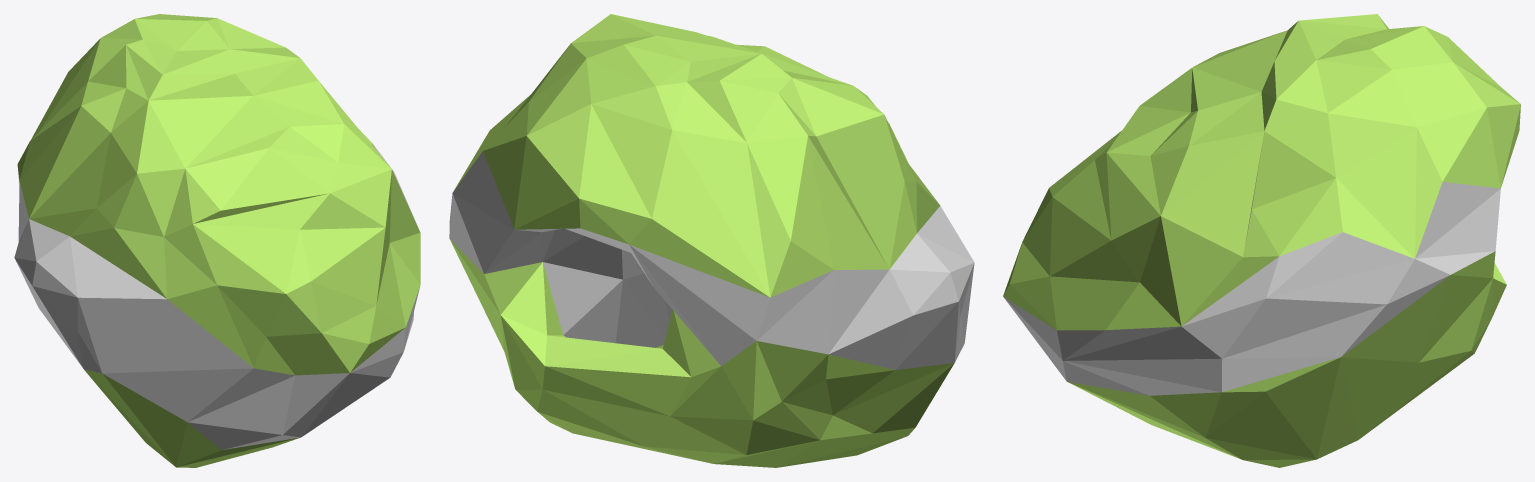
Rendered from fox_den.fbx.
3 renders of one model, left to right at view 1: azimuth 30°, elevation 25°; view 2: azimuth 150°, elevation 25°; view 3: azimuth 270°, elevation 25°, orthographic. The views are drawn at different scales.
Visible parts, largest first — view 1: pPlatonic1; view 2: pPlatonic1; view 3: pPlatonic1.
Boxes of the visible parts, x1,y1,x2,y2 form: pPlatonic1: (14, 14, 420, 467); pPlatonic1: (449, 14, 974, 467); pPlatonic1: (1003, 14, 1520, 467).
Bounding box in the file's own units: 2.12 × 2.03 × 2.33.
